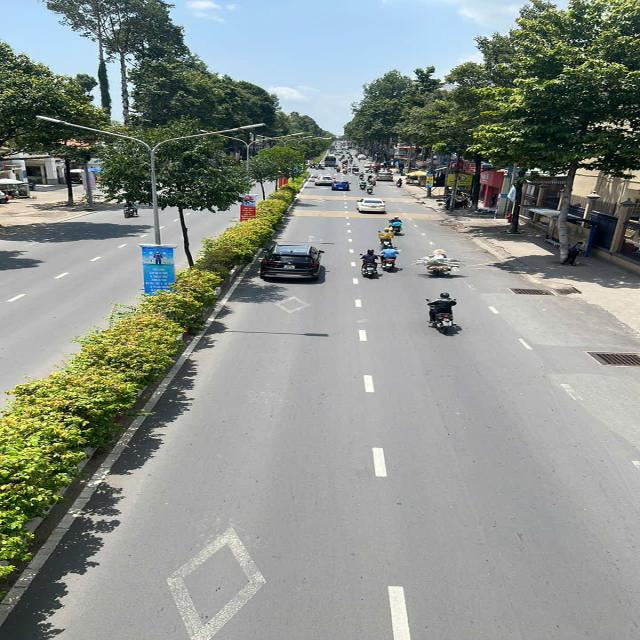car: (260, 240, 326, 283), (354, 196, 391, 214), (331, 178, 352, 193), (313, 174, 335, 188), (374, 169, 394, 183)
motobyte: (418, 288, 467, 340), (360, 246, 381, 280), (115, 199, 142, 220), (374, 227, 396, 251), (382, 244, 398, 273), (388, 214, 406, 237), (364, 182, 377, 195)
